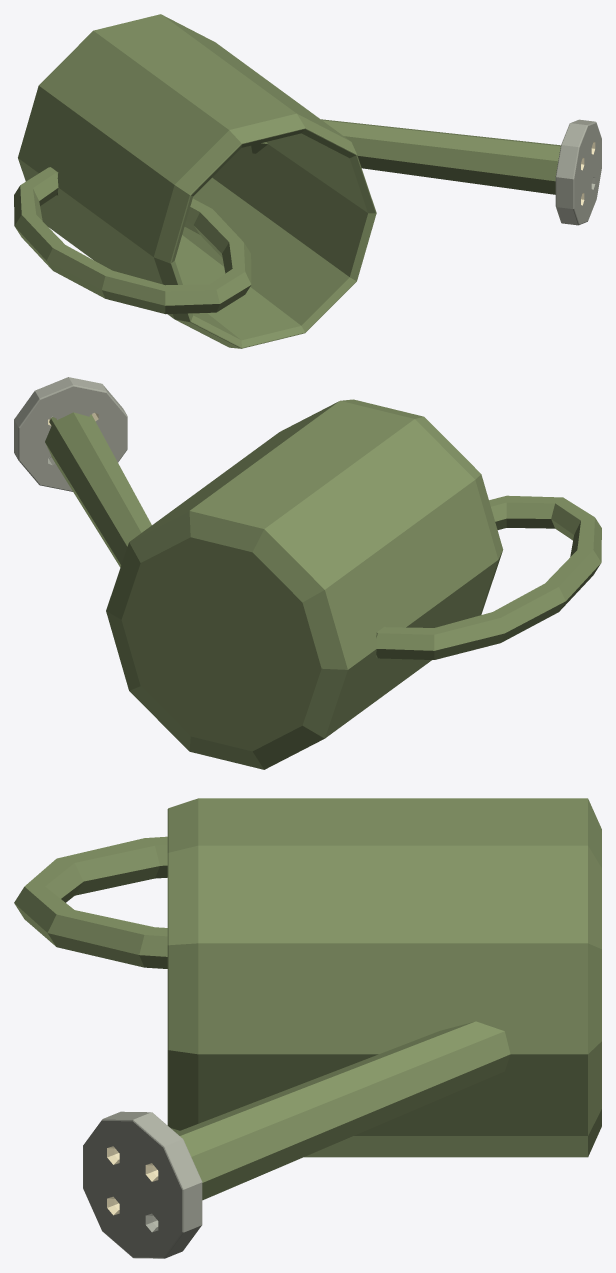
Rendered from watering_can.glb.
The picture shows the model from 3 angles, top to bottom: view 1: azimuth 30°, elevation 25°; view 2: azimuth 150°, elevation 25°; view 3: azimuth 270°, elevation 25°; orthographic projection. The views are drawn at different scales.
Visible parts, largest first — view 1: watering_can; view 2: watering_can; view 3: watering_can.
Boxes of the visible parts, x1,y1,x2,y2 form: watering_can: [14, 14, 601, 348]; watering_can: [14, 377, 601, 769]; watering_can: [14, 798, 601, 1258].
Size of the model in its own units: 0.2507 by 0.0989 by 0.169.
